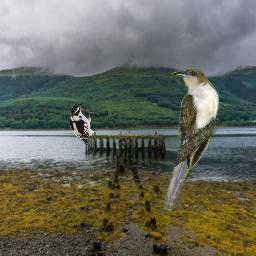Cuckoo: (163, 68, 220, 211)
Woodpecker: (70, 103, 98, 146)
